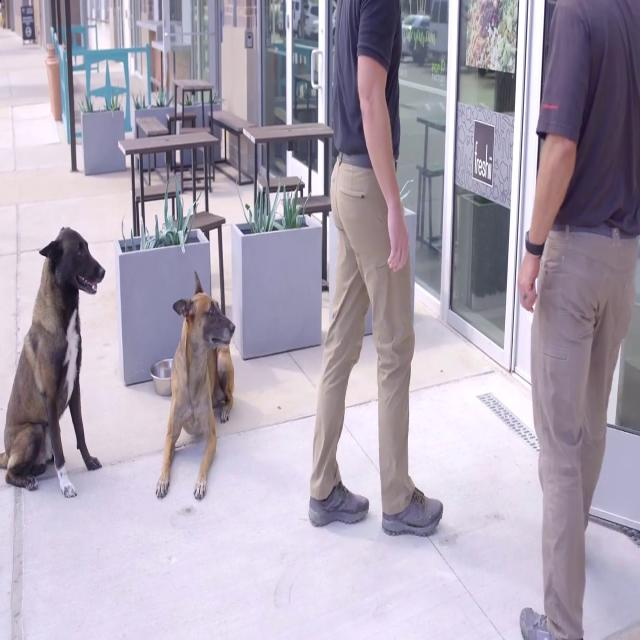Unleashed_Dog: (0, 167, 381, 500), (154, 169, 382, 503)
